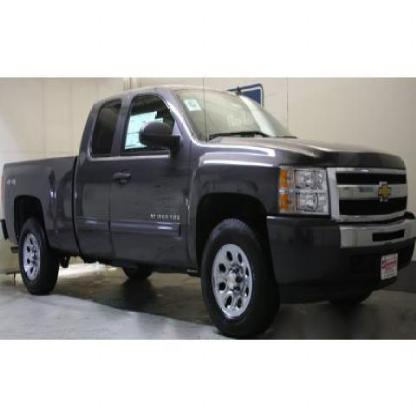car: (1, 88, 415, 365)
